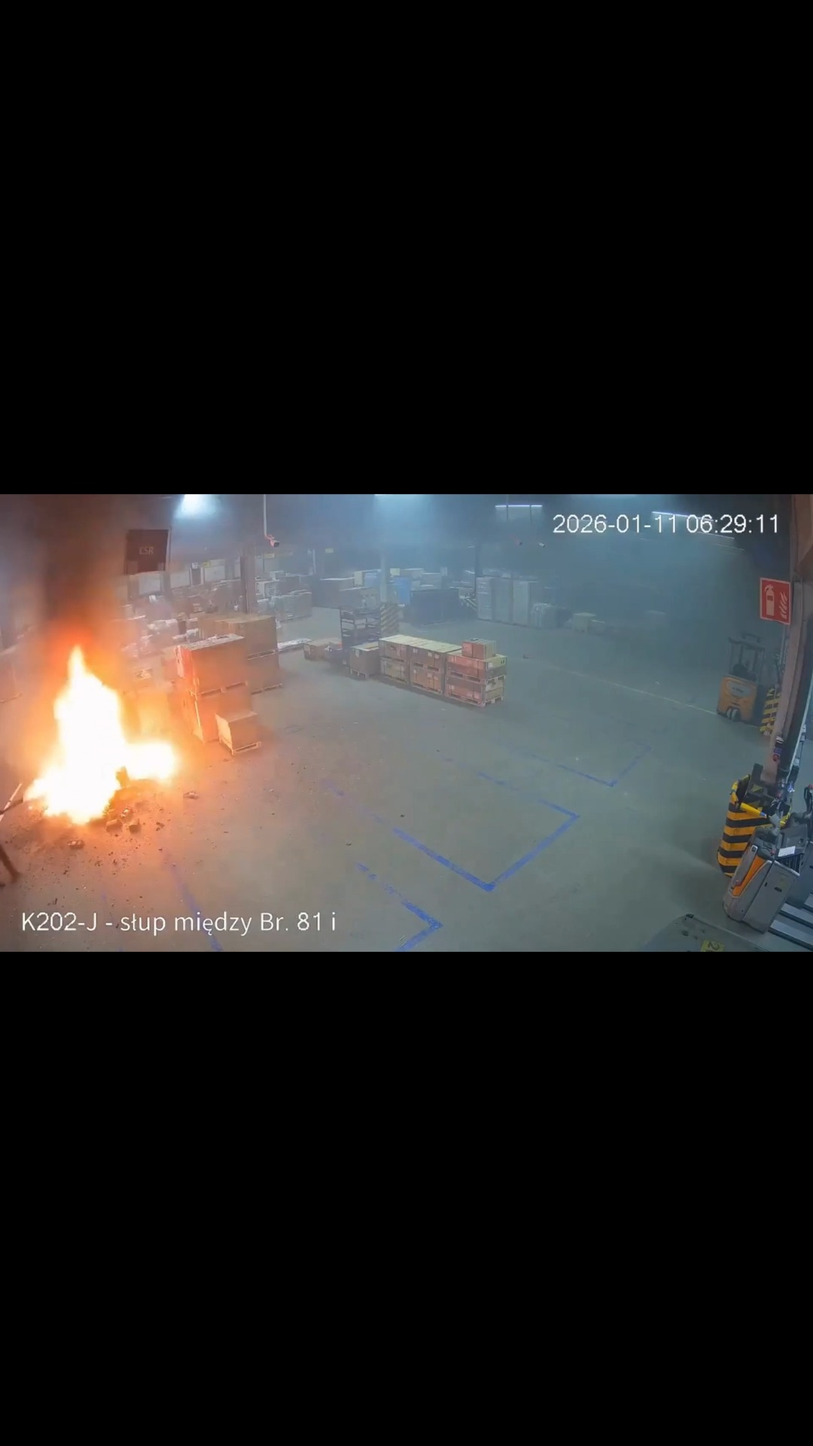fire: (21, 641, 182, 828)
smoke: (0, 496, 189, 673)
